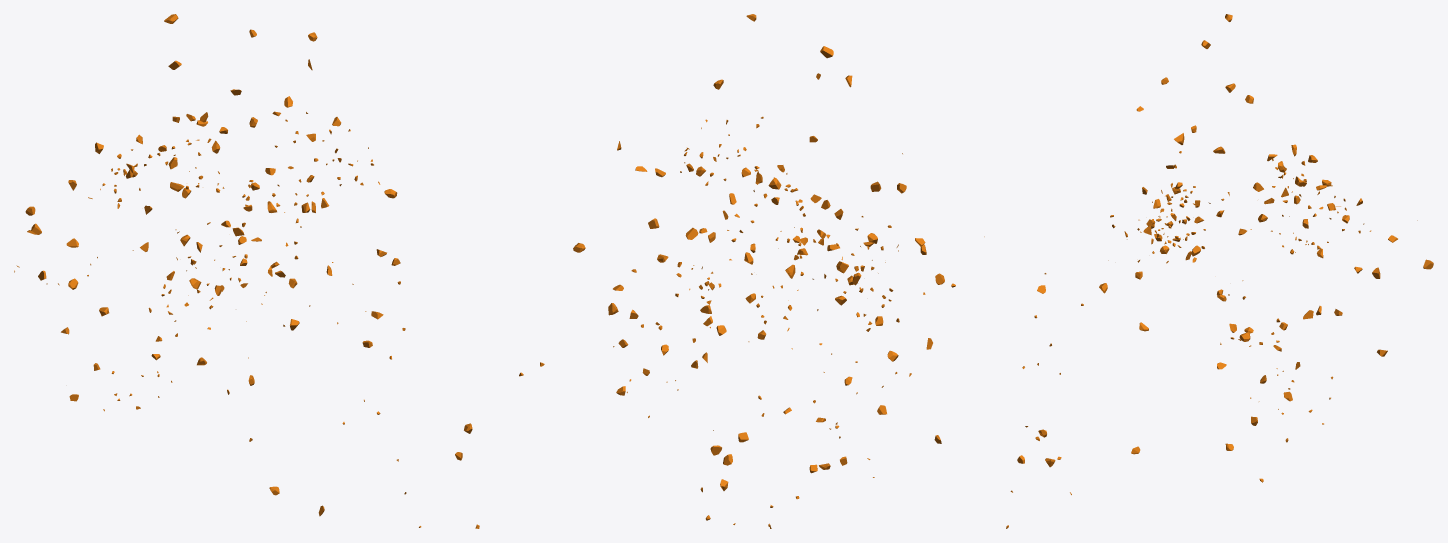
Rendered from Explode_Cube.f0032.glb.
3 views of the same model, side by side, from view 1: azimuth 30°, elevation 25°; view 2: azimuth 150°, elevation 25°; view 3: azimuth 270°, elevation 25° (orthographic). The views are drawn at different scales.
Size of the model in its own units: 17.49 by 19.73 by 18.58.
